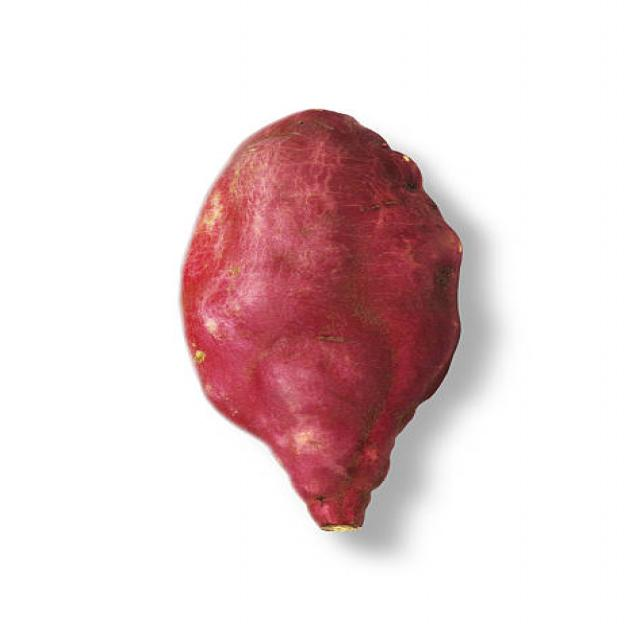Sweet Potato: (176, 102, 462, 537)
